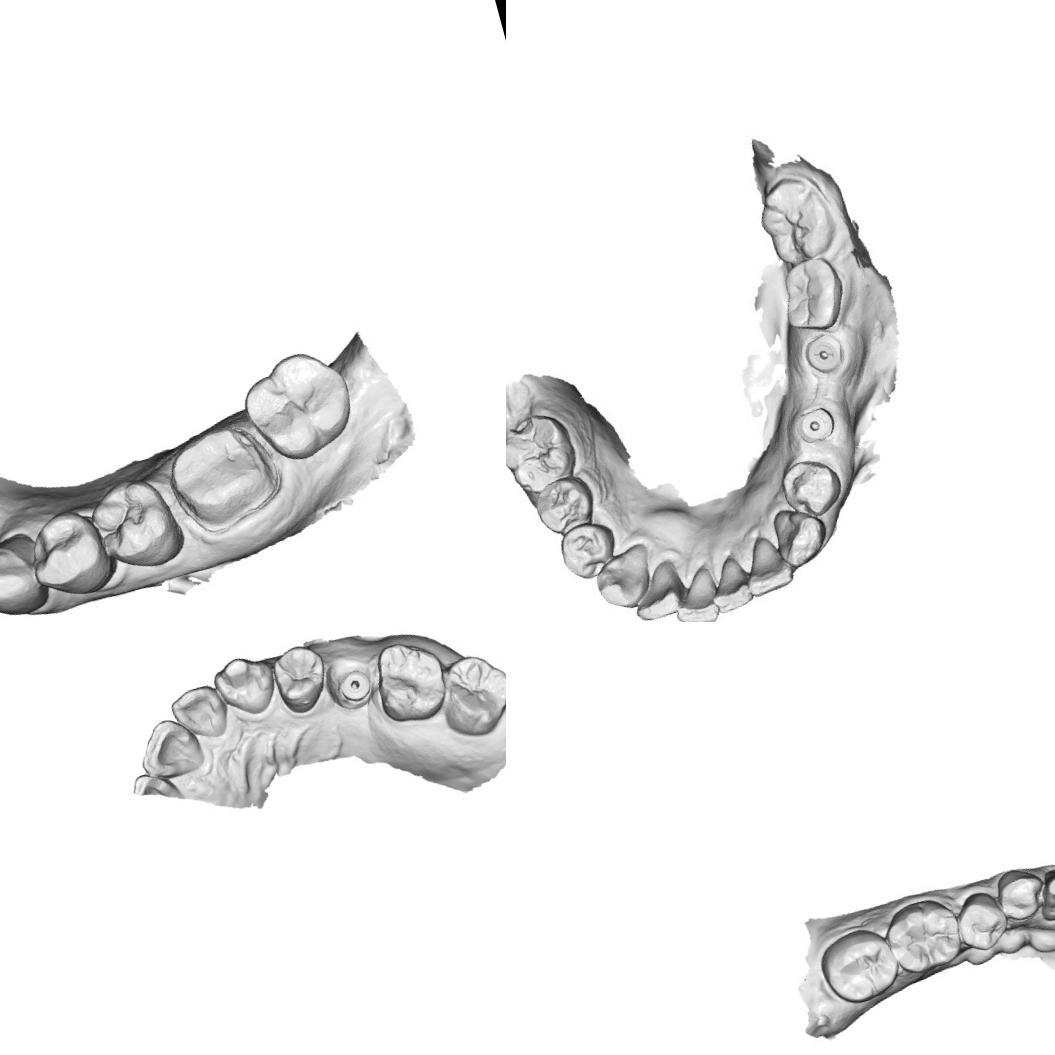canine: (584, 538, 663, 618), (207, 647, 281, 723), (772, 506, 834, 572), (0, 535, 44, 622), (1030, 861, 1055, 926)
crown: (155, 414, 284, 536)
implant: (328, 664, 378, 714), (794, 401, 840, 444)
implant_minus: (800, 330, 852, 376)
incisor: (130, 710, 208, 786), (165, 678, 236, 748), (627, 558, 689, 622), (741, 530, 795, 598), (706, 550, 758, 614), (665, 566, 723, 622)
molar: (232, 339, 365, 471), (753, 168, 841, 266), (367, 631, 454, 729), (812, 920, 904, 1012), (878, 891, 968, 980), (430, 646, 506, 745), (774, 250, 854, 336), (506, 411, 580, 494)
premolar: (83, 467, 191, 580), (19, 501, 117, 605), (266, 638, 336, 720), (949, 885, 1014, 957), (772, 456, 844, 519), (990, 862, 1051, 926), (556, 520, 620, 579), (533, 476, 598, 534)
